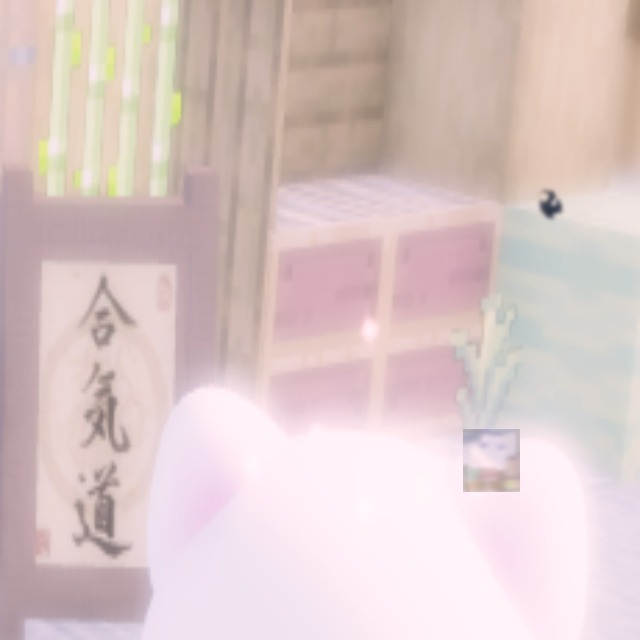urso_branco: (463, 429, 520, 492)
urso_preto: (531, 182, 568, 227)
